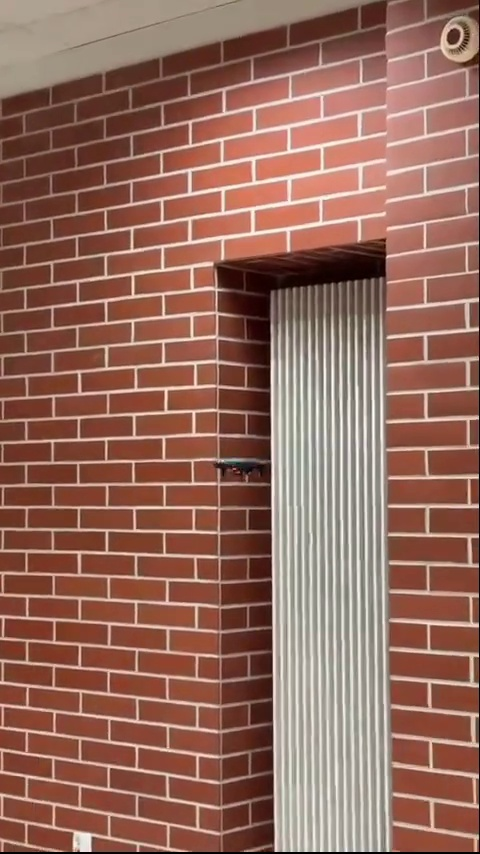drone: (217, 454, 276, 484)
